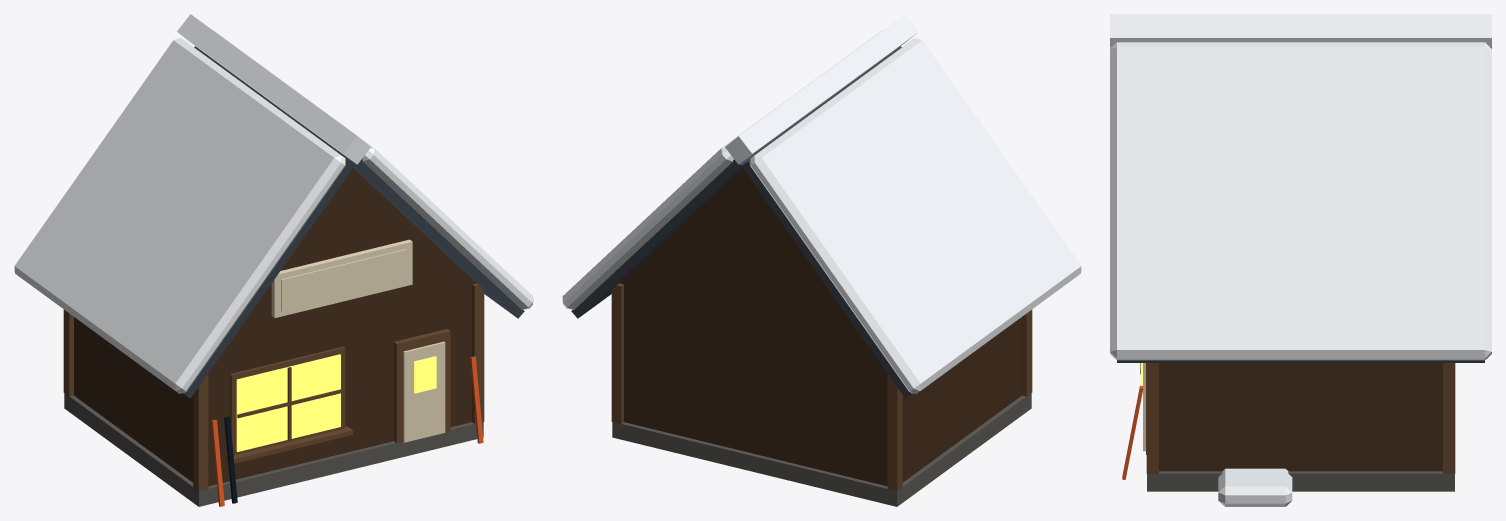
The model's file is ski-shop-adirondack.glb.
The picture shows the model from 3 angles, left to right: view 1: azimuth 30°, elevation 25°; view 2: azimuth 150°, elevation 25°; view 3: azimuth 270°, elevation 25°; orthographic projection. The views are drawn at different scales.
Parts seen in each view (by area): view 1: ski-shop-adirondack; view 2: ski-shop-adirondack; view 3: ski-shop-adirondack.
Boxes of the visible parts, <box> form: ski-shop-adirondack: <box>14,14,533,506</box>; ski-shop-adirondack: <box>562,14,1081,506</box>; ski-shop-adirondack: <box>1110,14,1491,506</box>.
Size of the model in its own units: 8.3 by 7.71 by 6.7.
